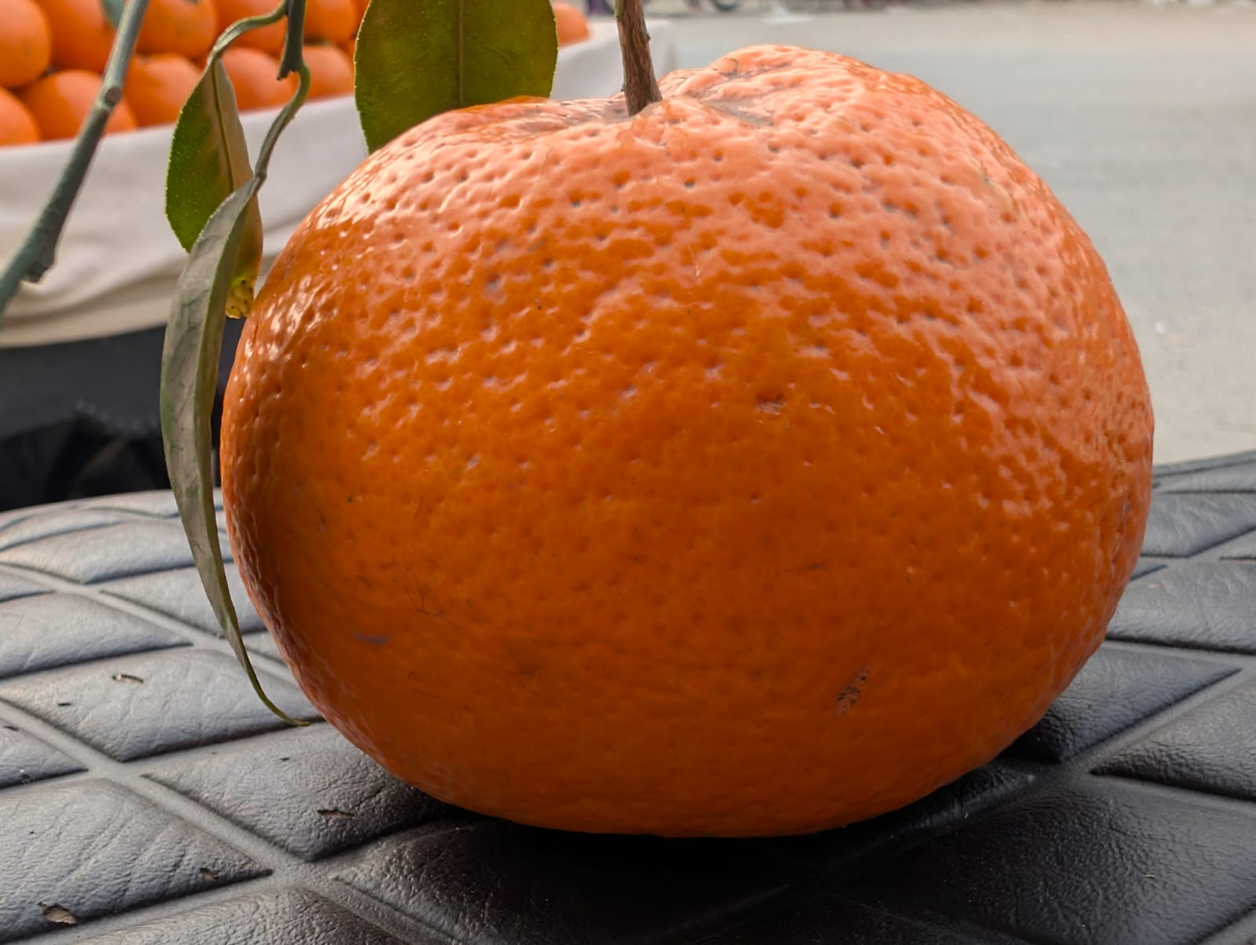orange: (238, 81, 1205, 766)
